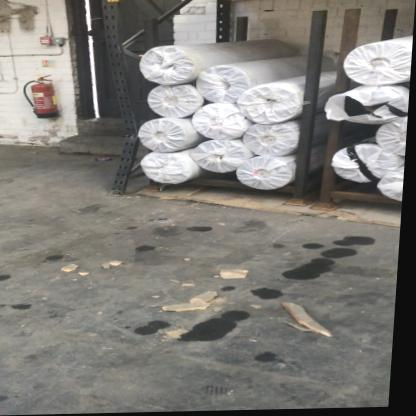vertical_damage: (109, 80, 154, 161)
